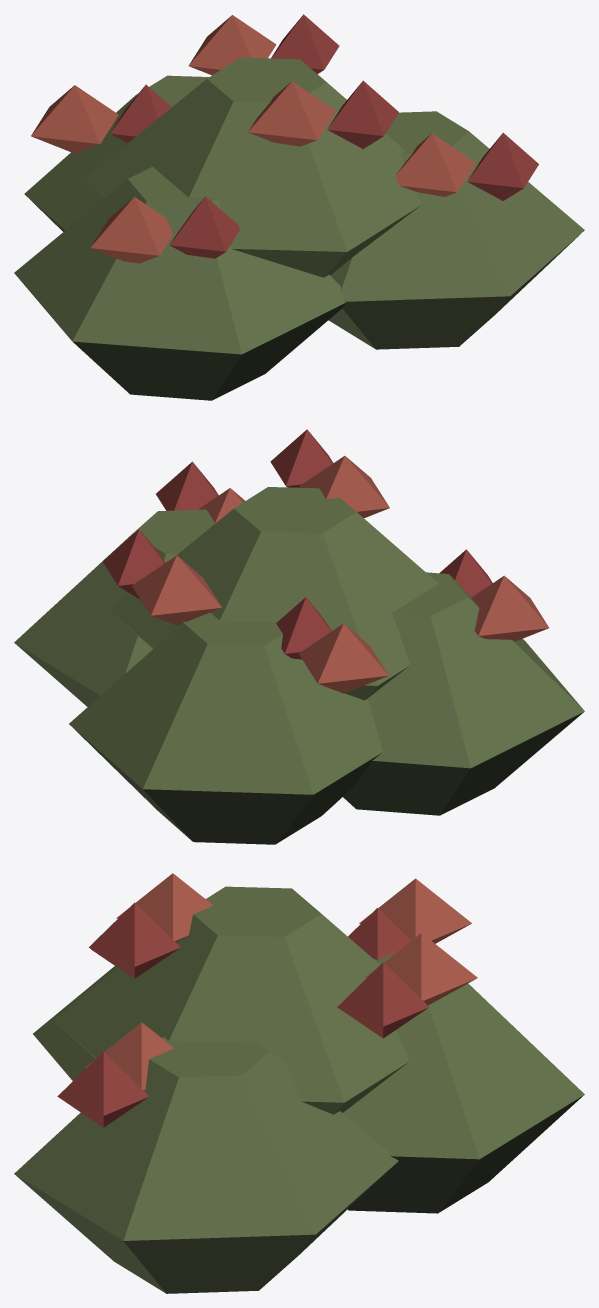
File: Survact-arbusto-bayas-v01.glb
3 renders of one model, top to bottom at view 1: azimuth 30°, elevation 25°; view 2: azimuth 150°, elevation 25°; view 3: azimuth 270°, elevation 25°, orthographic. The views are drawn at different scales.
Visible parts, largest first — view 1: BerryBush; view 2: BerryBush; view 3: BerryBush.
Part boxes in pixels (left/top/right/bottom): BerryBush: left=14, top=14, right=584, bottom=400; BerryBush: left=14, top=429, right=584, bottom=844; BerryBush: left=14, top=873, right=584, bottom=1293.
Size of the model in its own units: 0.553 by 0.299 by 0.494.
